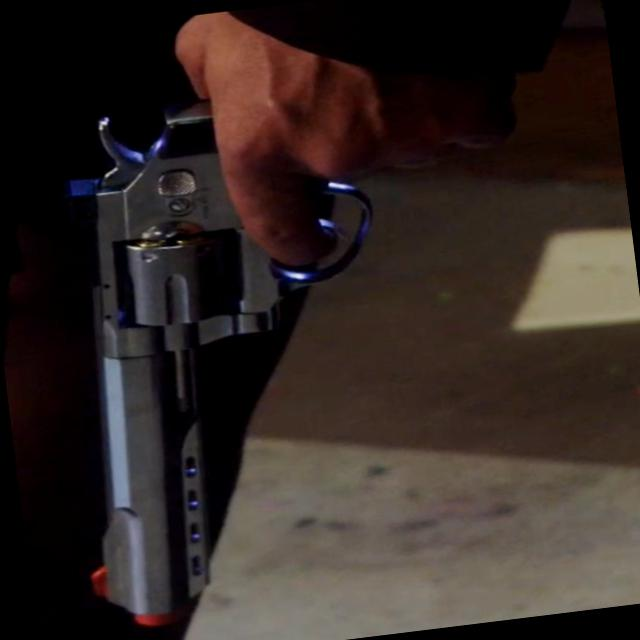handgun: (33, 79, 418, 636)
